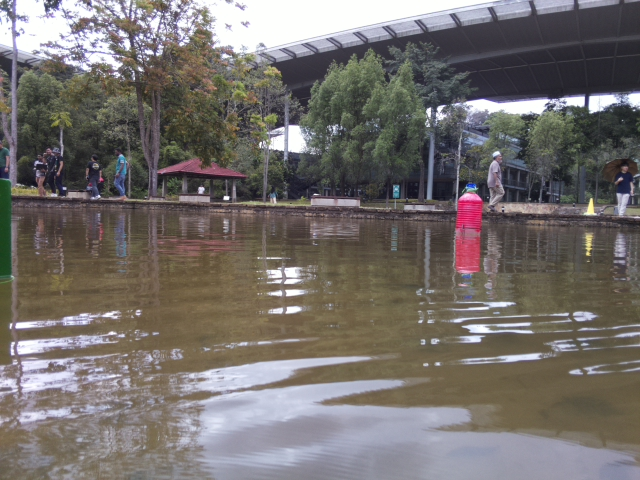checkpoint: (583, 197, 599, 217)
obstacle: (1, 178, 12, 280)
